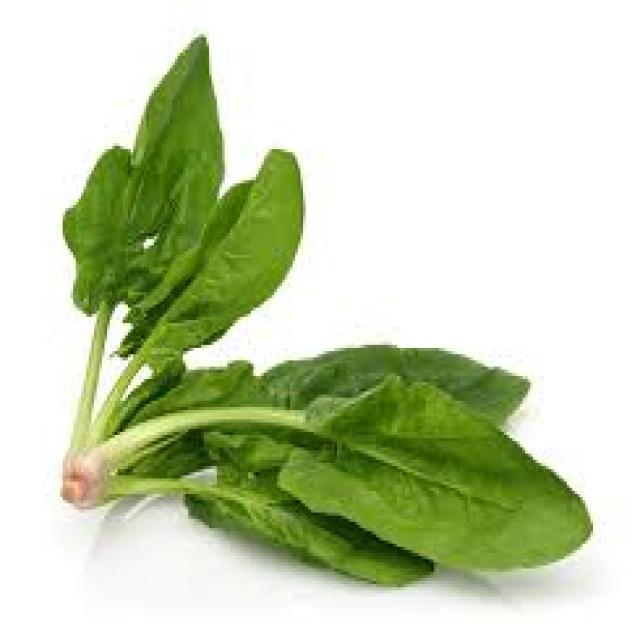spinach: (63, 37, 593, 586)
